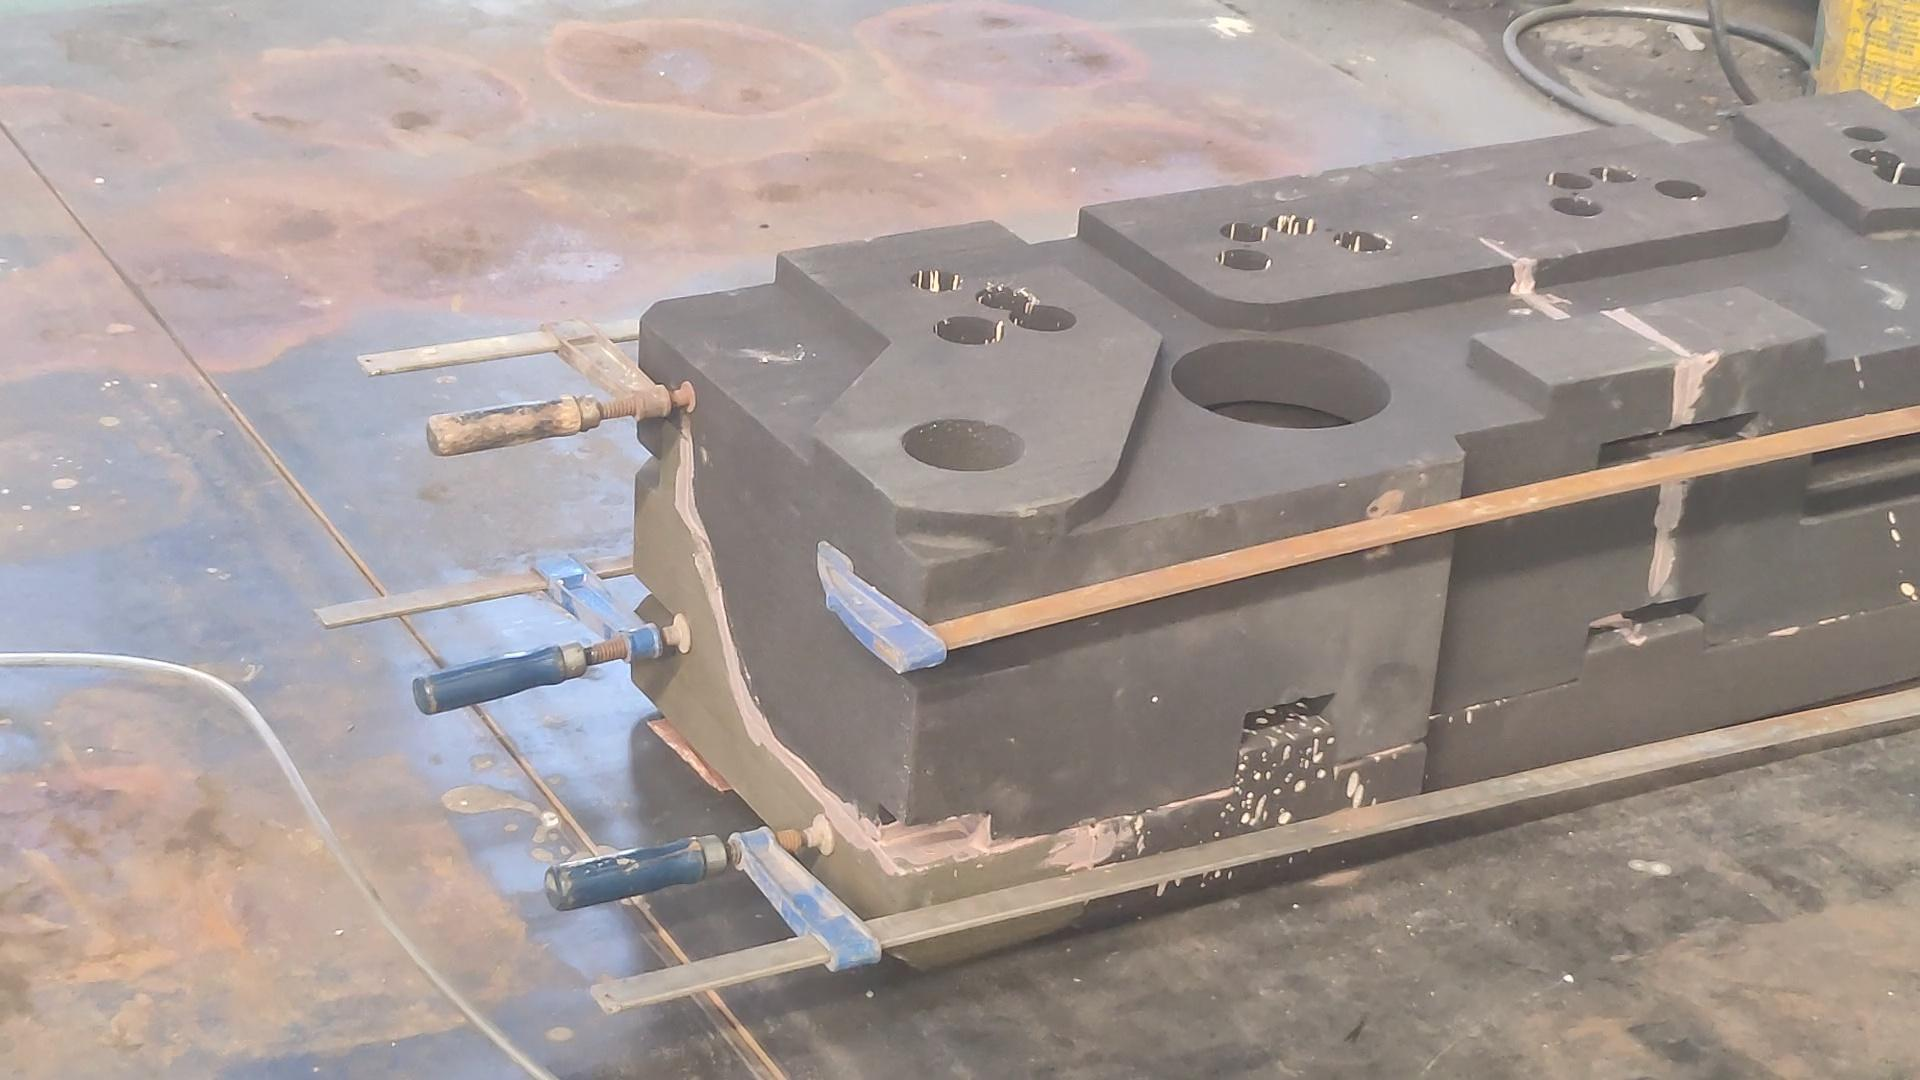pouring hole: (899, 418, 1027, 472)
